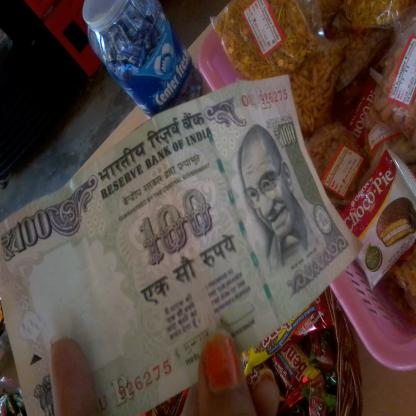Old100Front: (0, 72, 365, 416)
